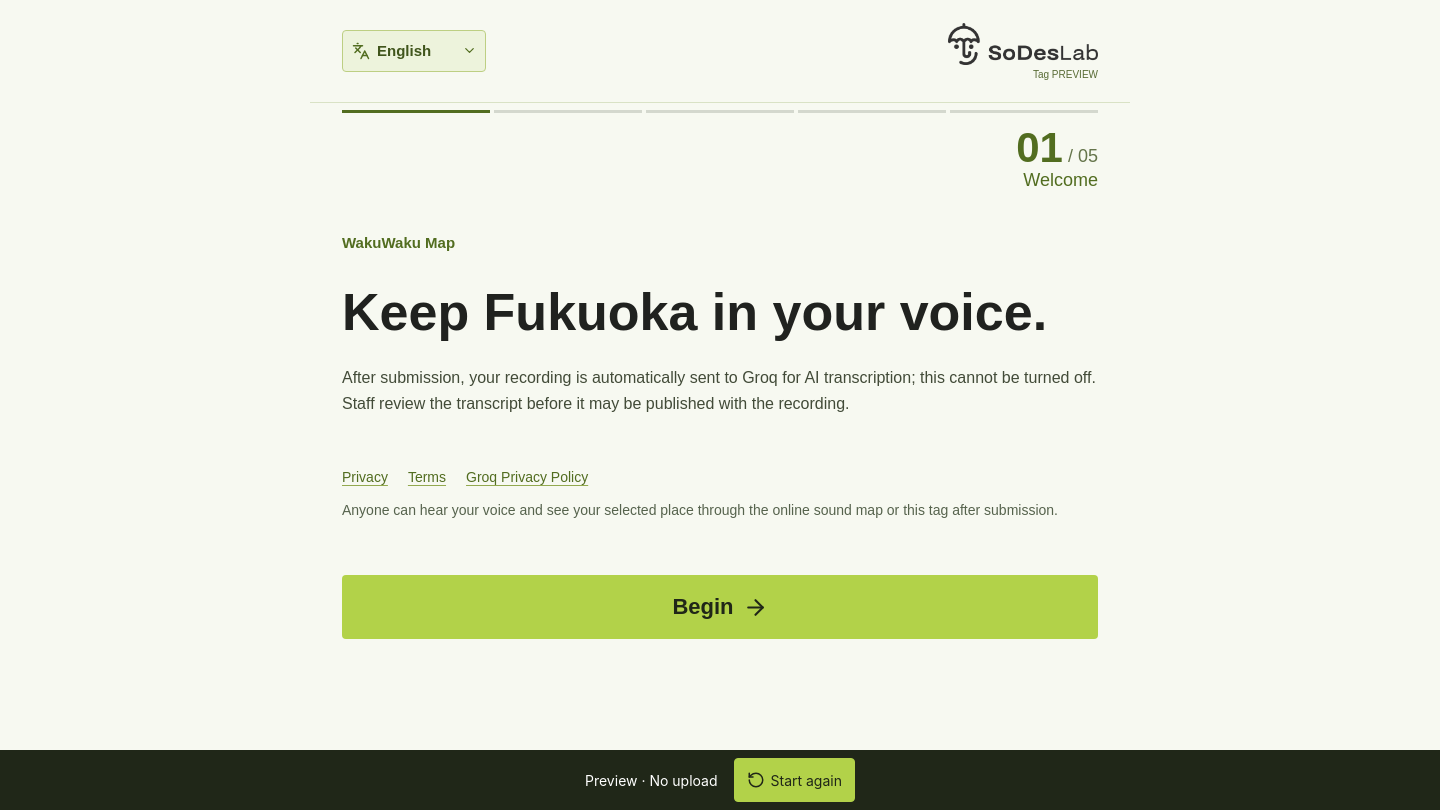
Test: always starts fresh and offers an explicit restart without network storage
Click the button "Begin" at (720, 607), box [342, 575, 1098, 639]
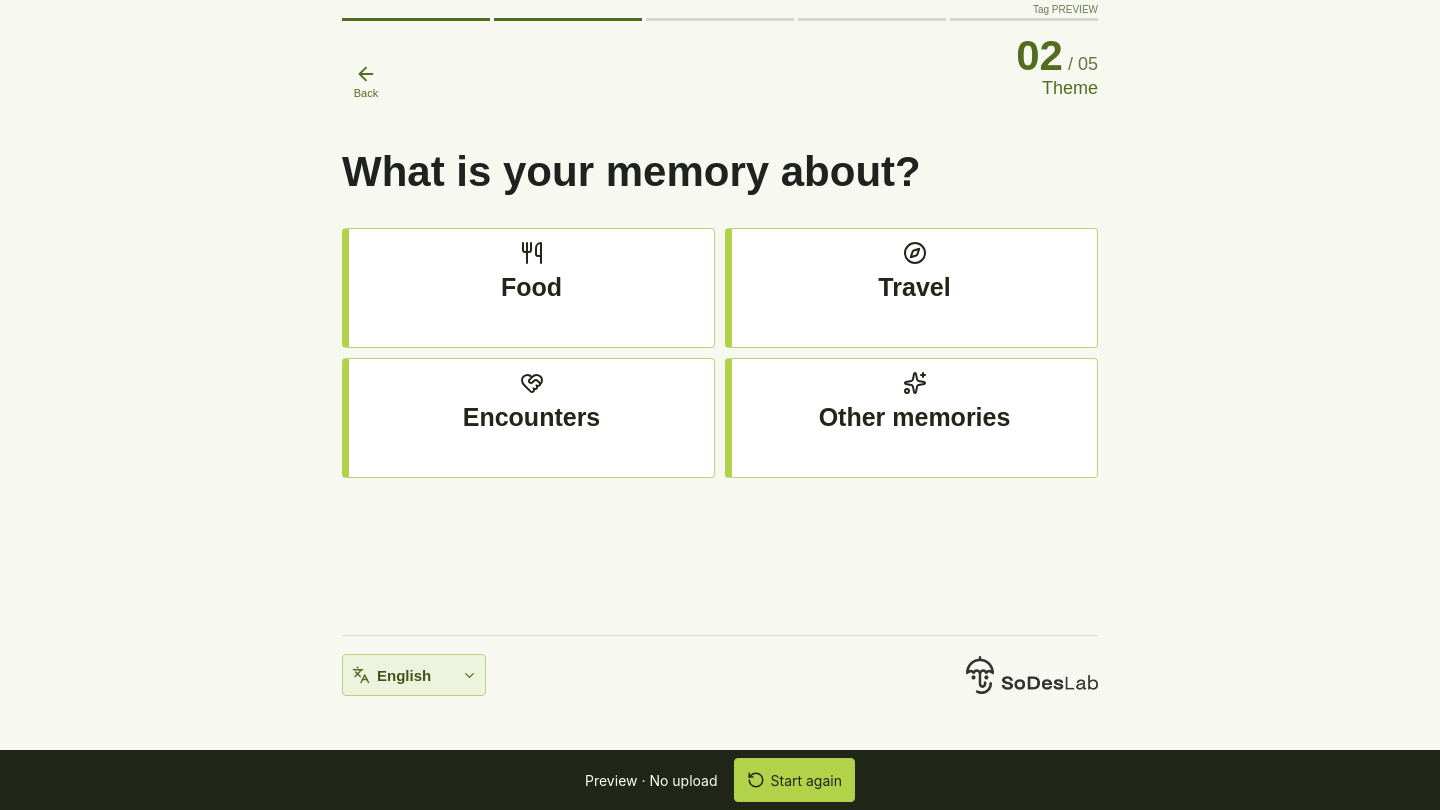
Now the heading "What is your memory about?" is shown, box [342, 148, 921, 195]
Click the button "Start again" at (794, 780), box [734, 758, 855, 802]
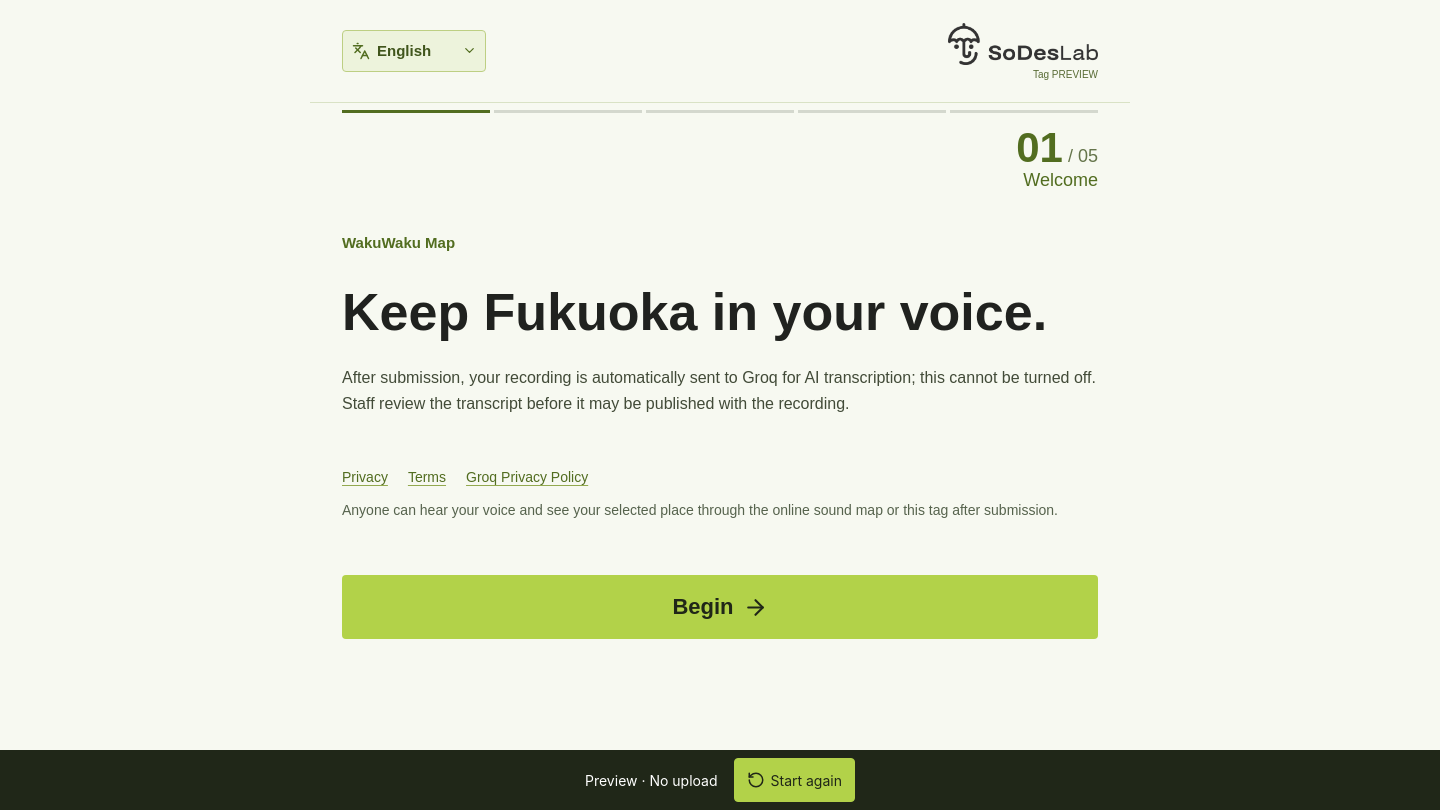
Expected: the text "Preview · No upload" is shown, [585, 772, 718, 788]
Now the button "Begin" is shown, box [342, 575, 1098, 639]
